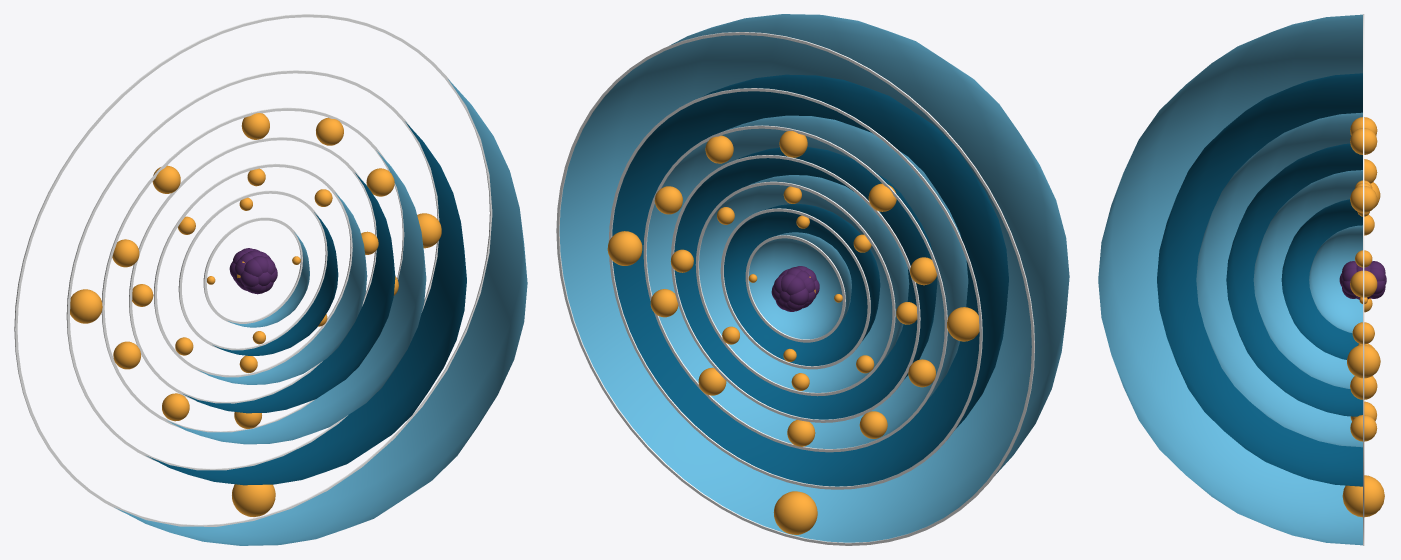
The model's file is Atom01.glb.
3 views of the same model, side by side, from view 1: azimuth 30°, elevation 25°; view 2: azimuth 150°, elevation 25°; view 3: azimuth 270°, elevation 25° (orthographic). The views are drawn at different scales.
Parts seen in each view (by area): view 1: Atom01; view 2: Atom01; view 3: Atom01.
Part boxes in pixels (bbox=[...]): Atom01: bbox=[14, 14, 527, 545]; Atom01: bbox=[556, 14, 1069, 545]; Atom01: bbox=[1098, 14, 1386, 545].
Bounding box in the file's own units: 3.05 × 3.05 × 1.66.
1 material, 1 textured.
